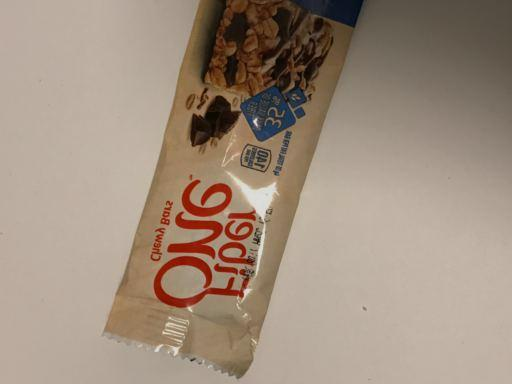trash: (100, 3, 361, 377)
